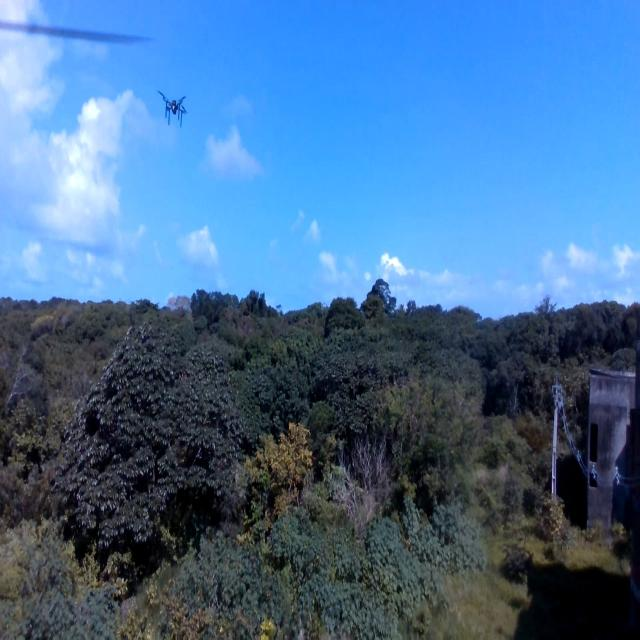-uav-: (154, 80, 198, 136)
